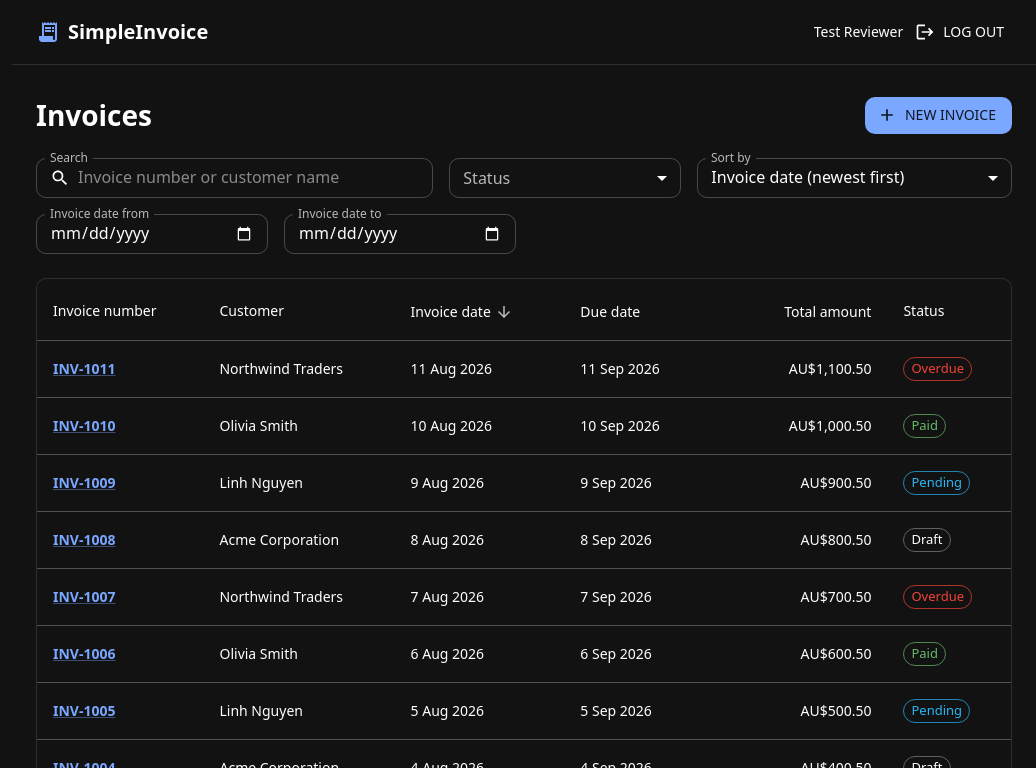
Test case: InvoiceListPage › opens an invoice when its row is clicked
Step 1. Click the cell "Northwind Traders" next to "INV-1011" → (299, 369), box [204, 340, 395, 397]
(page scrolled)
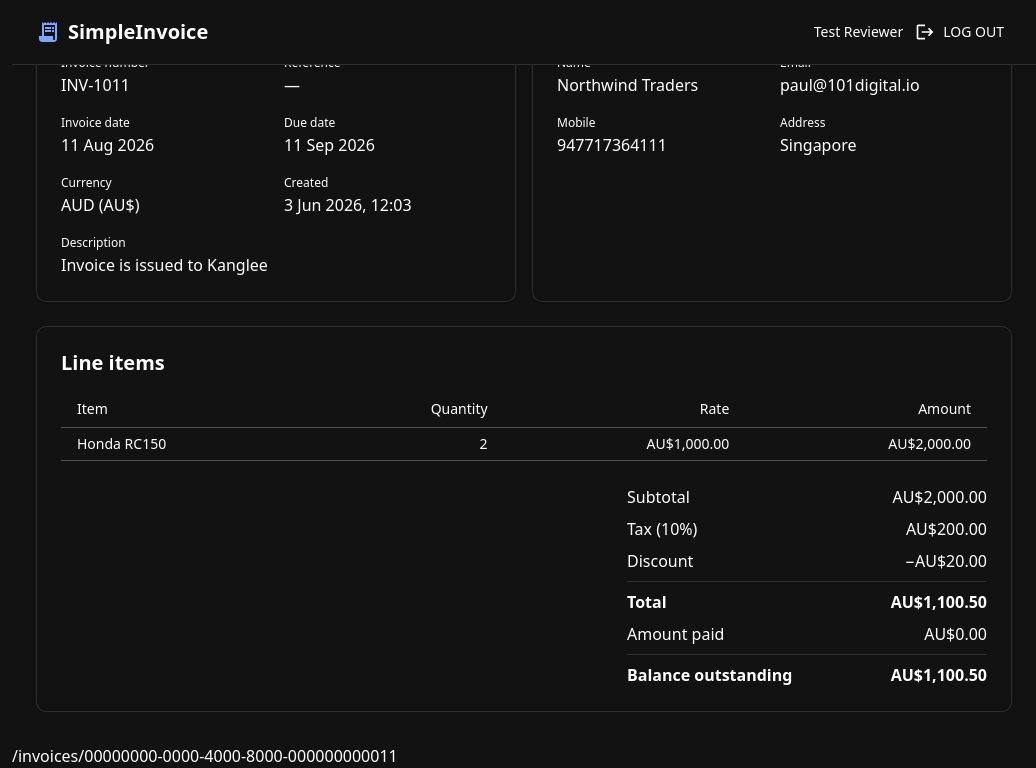
Expected: the text with test id "location" reads "/invoices/00000000-0000-4000-8000-000000000011", [12, 745, 398, 767]
